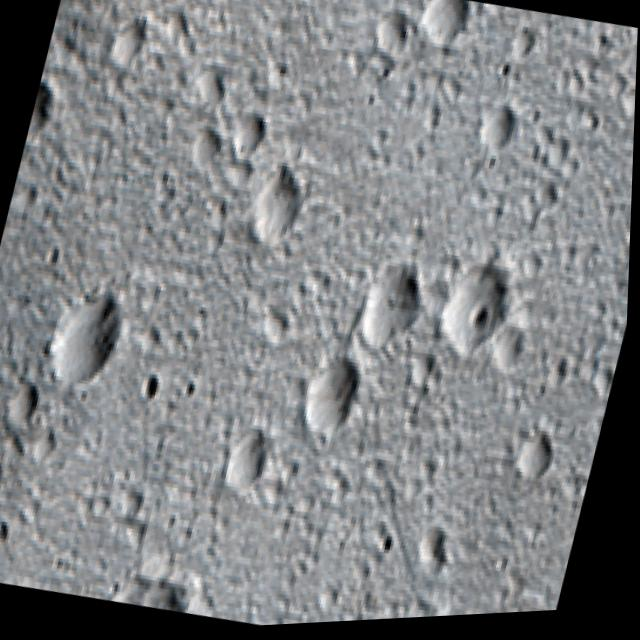Crater: (16, 226, 156, 434), (79, 521, 229, 624), (354, 586, 479, 625)
